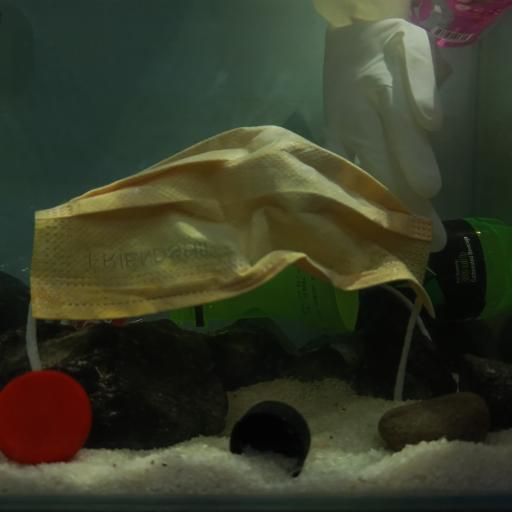bottle_cap: (0, 370, 93, 467), (229, 400, 311, 478)
glove: (324, 22, 456, 253)
mask: (29, 123, 438, 342)
plastic_bottle: (174, 214, 512, 332), (6, 254, 164, 328), (408, 0, 512, 49)
